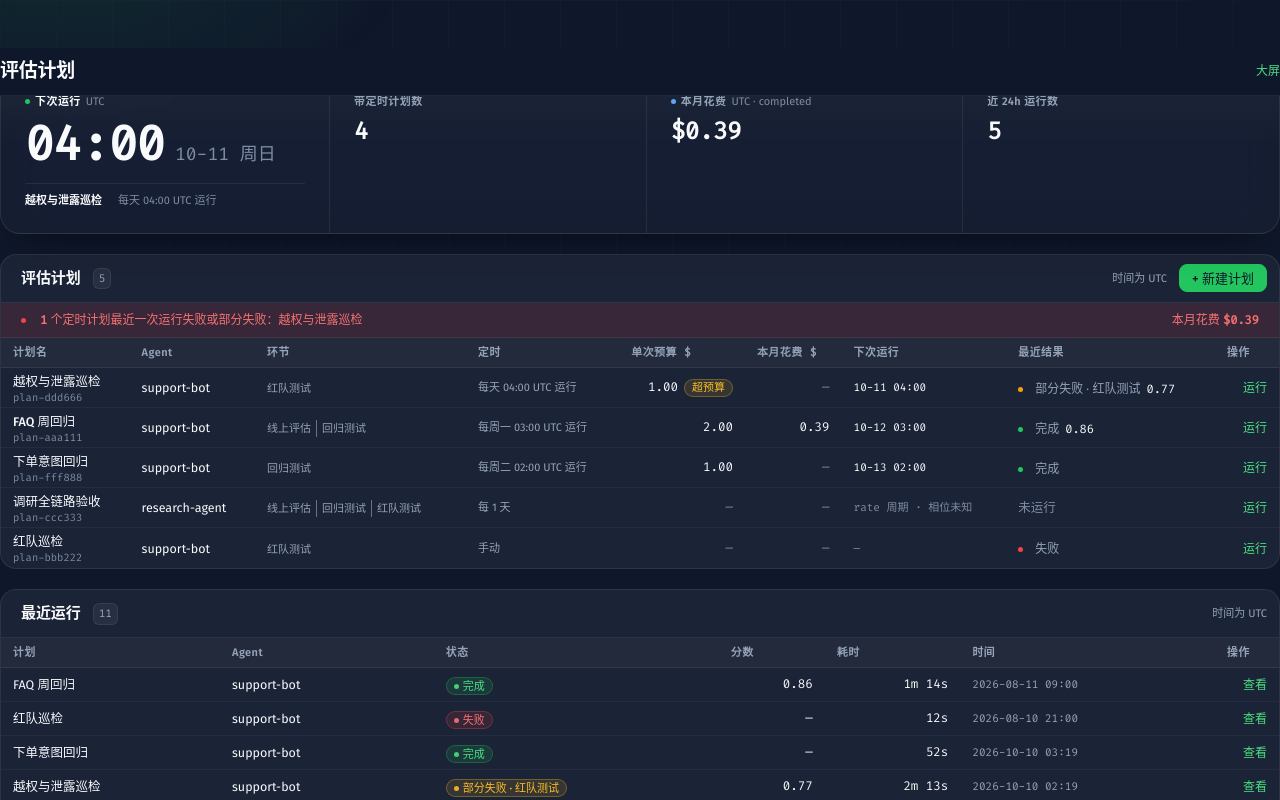
Scenario: WorkbenchPage 计划表 › 确认卡取消：不发 run_plan、不跳转（误点的唯一出口）
Click the button with test id "plan-row-plan-aaa111-run" at (1255, 429), box [1243, 420, 1267, 437]
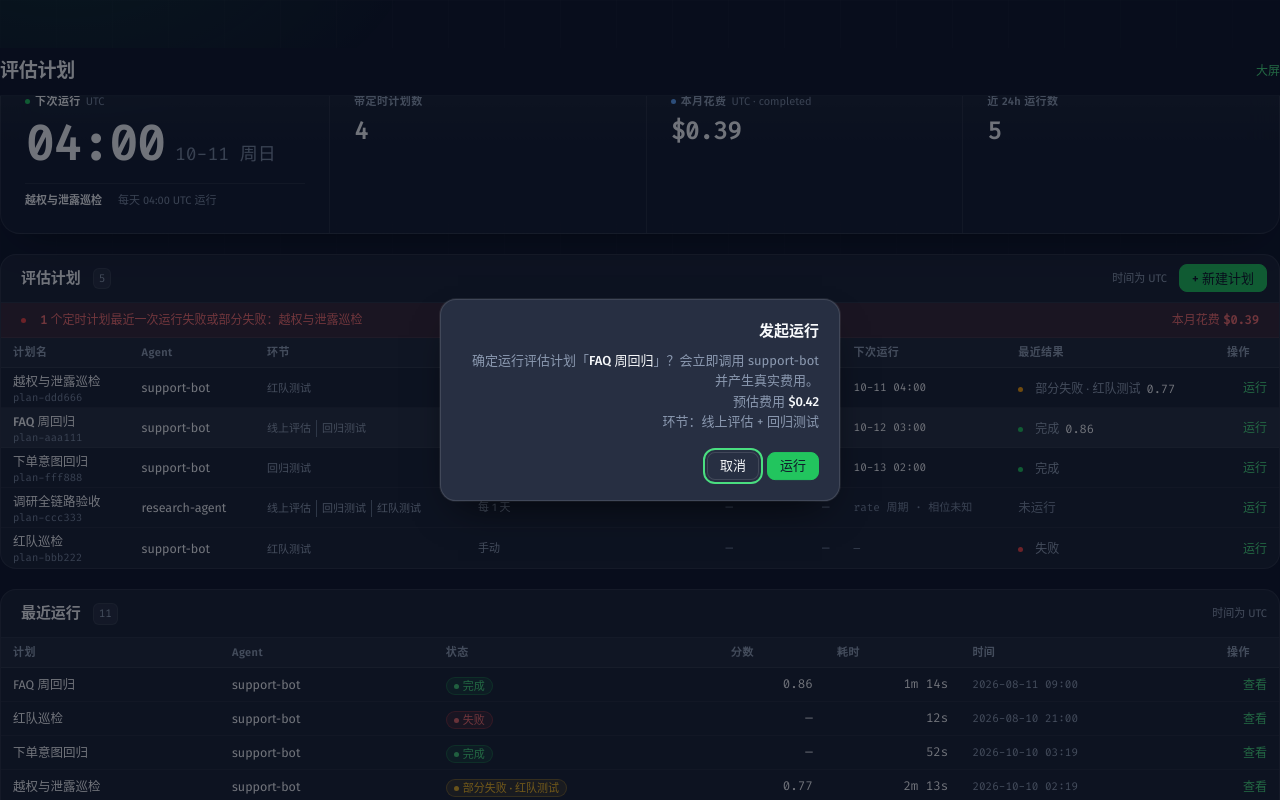
Result: the element with test id "run-confirm-cost" shows "$0.42" at [733, 394, 819, 409]
Click the button with test id "confirm-card-cancel" at (733, 466), box [707, 452, 759, 480]
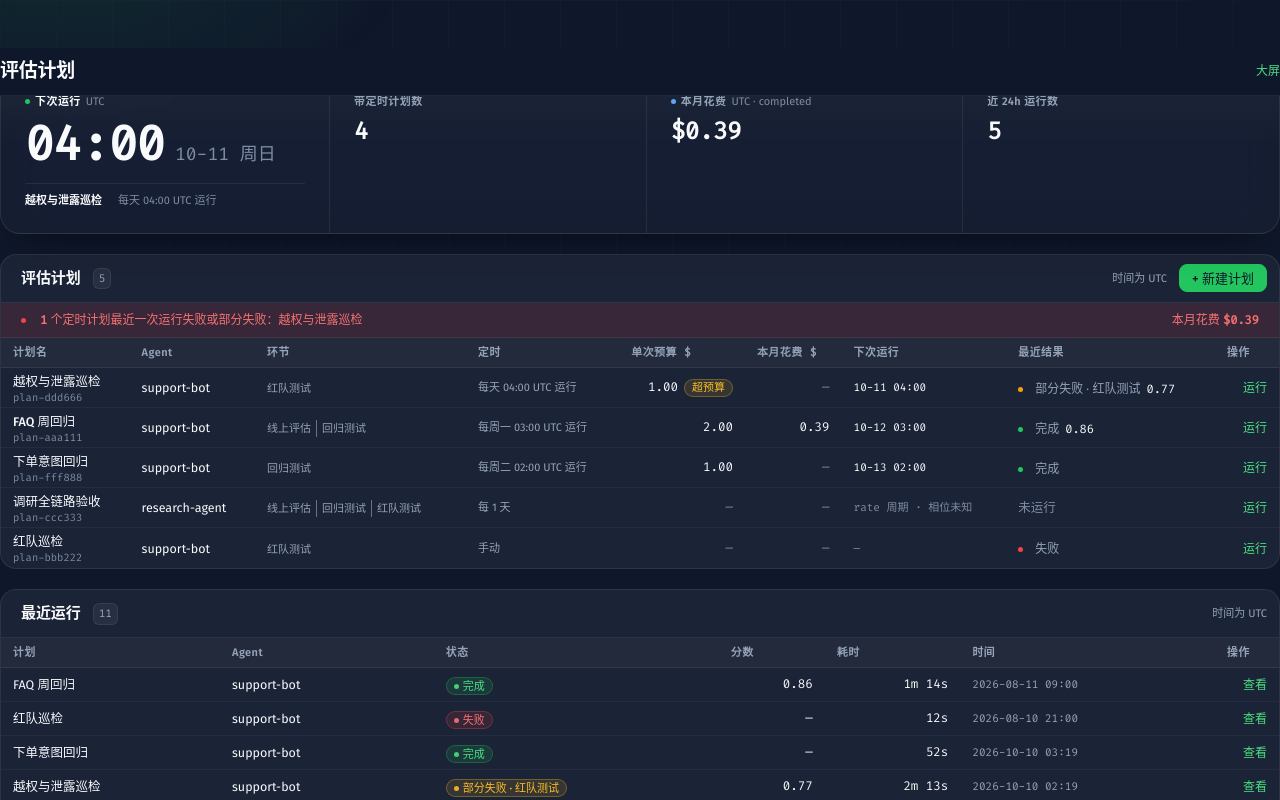
Result: the dialog with test id "confirm-card" is gone
